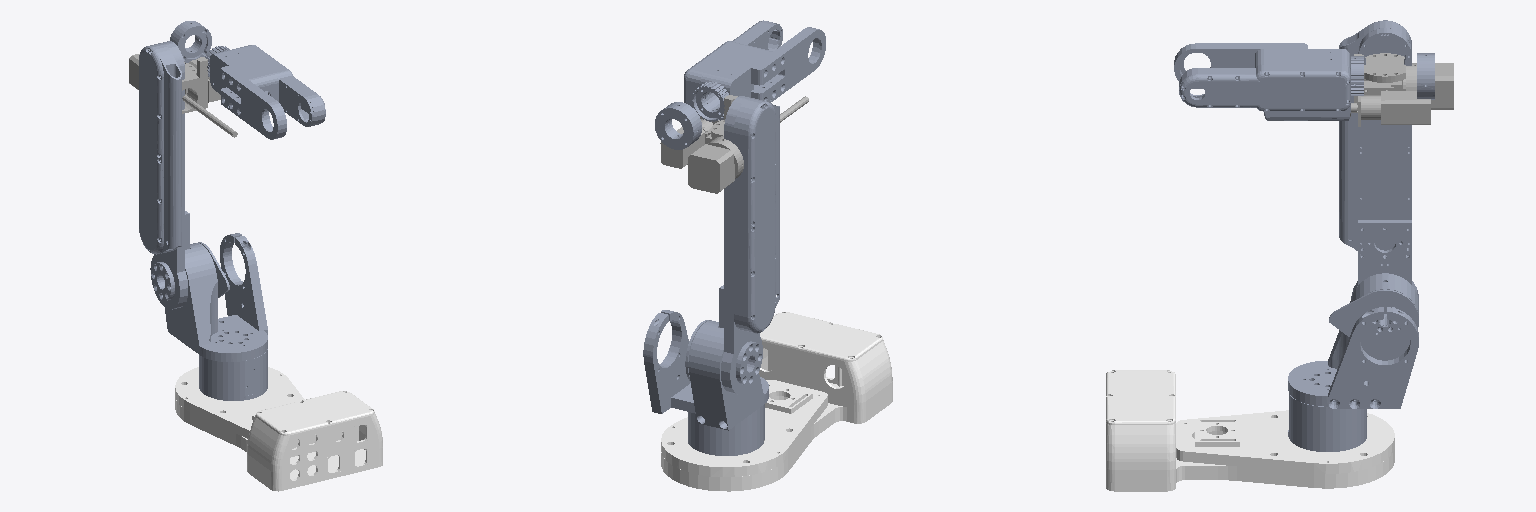
robot.urdf — arm_description:
<?xml version="1.0" encoding="utf-8"?>
<!-- This URDF was automatically created by SolidWorks to URDF Exporter! Originally created by [author] ([email redacted]) 
     Commit Version: 1.5.1-0-g916b5db  Build Version: 1.5.7152.31018
     For more information, please see http://wiki.ros.org/sw_urdf_exporter -->
<robot
  name="arm_description">
  <link
    name="base_link">
    <inertial>
      <origin
        xyz="-1.15397205339615E-05 -0.10213687957753 0.0256683807735144"
        rpy="0 0 0" />
      <mass
        value="0.66695527839868" />
      <inertia
        ixx="0.00200785375472586"
        ixy="8.95894771130143E-07"
        ixz="-4.55457901869221E-07"
        iyy="0.0015409663357719"
        iyz="5.63870746638963E-05"
        izz="0.00329186572157014" />
    </inertial>
    <visual>
      <origin
        xyz="0 0 0"
        rpy="0 0 0" />
      <geometry>
        <mesh
          filename="package://arm_description/meshes/base_link.STL" />
      </geometry>
      <material
        name="">
        <color
          rgba="1 1 1 1" />
      </material>
    </visual>
    <collision>
      <origin
        xyz="0 0 0"
        rpy="0 0 0" />
      <geometry>
        <mesh
          filename="package://arm_description/meshes/base_link.STL" />
      </geometry>
    </collision>
  </link>
  <link
    name="Link1">
    <inertial>
      <origin
        xyz="0.032141 -0.0063693 -0.020838"
        rpy="0 0 0" />
      <mass
        value="0.51011" />
      <inertia
        ixx="0.00048671"
        ixy="-4.2616E-06"
        ixz="3.5903E-05"
        iyy="0.00065864"
        iyz="2.2456E-06"
        izz="0.0005653" />
    </inertial>
    <visual>
      <origin
        xyz="0 0 0"
        rpy="0 0 0" />
      <geometry>
        <mesh
          filename="package://arm_description/meshes/Link1.STL" />
      </geometry>
      <material
        name="">
        <color
          rgba="0.66667 0.69804 0.76863 1" />
      </material>
    </visual>
    <collision>
      <origin
        xyz="0 0 0"
        rpy="0 0 0" />
      <geometry>
        <mesh
          filename="package://arm_description/meshes/Link1.STL" />
      </geometry>
    </collision>
  </link>
  <joint
    name="J1"
    type="revolute">
    <origin
      xyz="0 0 0.0867"
      rpy="3.1416 0 1.5708" />
    <parent
      link="base_link" />
    <child
      link="Link1" />
    <axis
      xyz="0 0 1" />
    <limit
      lower="0"
      upper="0"
      effort="0"
      velocity="0" />
  </joint>
  <link
    name="Link2">
    <inertial>
      <origin
        xyz="0.080422 -0.13477 -0.053585"
        rpy="0 0 0" />
      <mass
        value="0.53035" />
      <inertia
        ixx="0.0020434"
        ixy="0.0010489"
        ixz="1.664E-07"
        iyy="0.00084612"
        iyz="-8.1845E-08"
        izz="0.0028454" />
    </inertial>
    <visual>
      <origin
        xyz="0 0 0"
        rpy="0 0 0" />
      <geometry>
        <mesh
          filename="package://arm_description/meshes/Link2.STL" />
      </geometry>
      <material
        name="">
        <color
          rgba="0.66667 0.69804 0.76863 1" />
      </material>
    </visual>
    <collision>
      <origin
        xyz="0 0 0"
        rpy="0 0 0" />
      <geometry>
        <mesh
          filename="package://arm_description/meshes/Link2.STL" />
      </geometry>
    </collision>
  </link>
  <joint
    name="J2"
    type="revolute">
    <origin
      xyz="0.064146 -0.007968 -0.083075"
      rpy="1.5708 0.5236 3.1416" />
    <parent
      link="Link1" />
    <child
      link="Link2" />
    <axis
      xyz="0 0 1" />
    <limit
      lower="0"
      upper="0"
      effort="0"
      velocity="0" />
  </joint>
  <link
    name="Link3">
    <inertial>
      <origin
        xyz="-0.00102555575202164 -0.00387982974471979 -0.0464271182276246"
        rpy="0 0 0" />
      <mass
        value="0.139370701456675" />
      <inertia
        ixx="4.7707018460657E-05"
        ixy="-1.11304367458891E-08"
        ixz="2.21188897459325E-06"
        iyy="7.90931093716717E-05"
        iyz="2.06183684225396E-07"
        izz="6.96384643549249E-05" />
    </inertial>
    <visual>
      <origin
        xyz="0 0 0"
        rpy="0 0 0" />
      <geometry>
        <mesh
          filename="package://arm_description/meshes/Link3.STL" />
      </geometry>
      <material
        name="">
        <color
          rgba="0.752941176470588 0.752941176470588 0.752941176470588 1" />
      </material>
    </visual>
    <collision>
      <origin
        xyz="0 0 0"
        rpy="0 0 0" />
      <geometry>
        <mesh
          filename="package://arm_description/meshes/Link3.STL" />
      </geometry>
    </collision>
  </link>
  <joint
    name="J3"
    type="revolute">
    <origin
      xyz="0.1525 -0.26414 -0.043745"
      rpy="3.1263 0 0.5236" />
    <parent
      link="Link2" />
    <child
      link="Link3" />
    <axis
      xyz="0 0.01527 -0.99988" />
    <limit
      lower="0"
      upper="0"
      effort="0"
      velocity="0" />
  </joint>
  <link
    name="Link4">
    <inertial>
      <origin
        xyz="-0.00392412669689435 0.00112688757108009 0.090746722191295"
        rpy="0 0 0" />
      <mass
        value="0.290695240644425" />
      <inertia
        ixx="0.000575263509263945"
        ixy="-2.22197708945538E-06"
        ixz="4.62059886126857E-06"
        iyy="0.000516200265723224"
        iyz="1.48107971263623E-05"
        izz="0.000101002671430719" />
    </inertial>
    <visual>
      <origin
        xyz="0 0 0"
        rpy="0 0 0" />
      <geometry>
        <mesh
          filename="package://arm_description/meshes/Link4.STL" />
      </geometry>
      <material
        name="">
        <color
          rgba="0.666666666666667 0.698039215686274 0.768627450980392 1" />
      </material>
    </visual>
    <collision>
      <origin
        xyz="0 0 0"
        rpy="0 0 0" />
      <geometry>
        <mesh
          filename="package://arm_description/meshes/Link4.STL" />
      </geometry>
    </collision>
  </link>
  <joint
    name="J4"
    type="revolute">
    <origin
      xyz="-0.035639 0.00078946 -0.051694"
      rpy="1.5708 -1.5555 -1.5708" />
    <parent
      link="Link3" />
    <child
      link="Link4" />
    <axis
      xyz="0 0 -1" />
    <limit
      lower="0"
      upper="0"
      effort="0"
      velocity="0" />
  </joint>
</robot>

--- What the picture shows (computed from the rendered views, not written in the file) ---
Views: 3 orthographic renders of the robot side by side, from view 1: azimuth 30°, elevation 25°; view 2: azimuth 150°, elevation 25°; view 3: azimuth 270°, elevation 25°.
Model arm_description with 5 links and 4 joints (4 revolute), rooted at base_link, posed all joints at 0.
Visible links, largest first — view 1: base_link, Link2, Link1, Link4, Link3; view 2: base_link, Link2, Link1, Link4, Link3; view 3: base_link, Link2, Link4, Link1, Link3.
Link boxes in pixels (x1,y1,x2,y2): base_link: (175,367,382,491); Link2: (139,41,229,309); Link1: (165,233,267,400); Link4: (170,21,325,139); Link3: (129,54,237,137); base_link: (661,312,892,491); Link2: (685,96,779,394); Link1: (643,310,768,455); Link4: (655,20,825,149); Link3: (660,95,808,193); base_link: (1106,370,1394,491); Link2: (1329,20,1418,351); Link4: (1174,43,1434,120); Link1: (1288,273,1418,451); Link3: (1350,53,1453,126).
Bounding box of the posed robot: 0.172 × 0.3905 × 0.5048 m (x, y, z).
Meshes: 5 distinct files referenced, 5 mesh visuals loaded (5 binary STL).